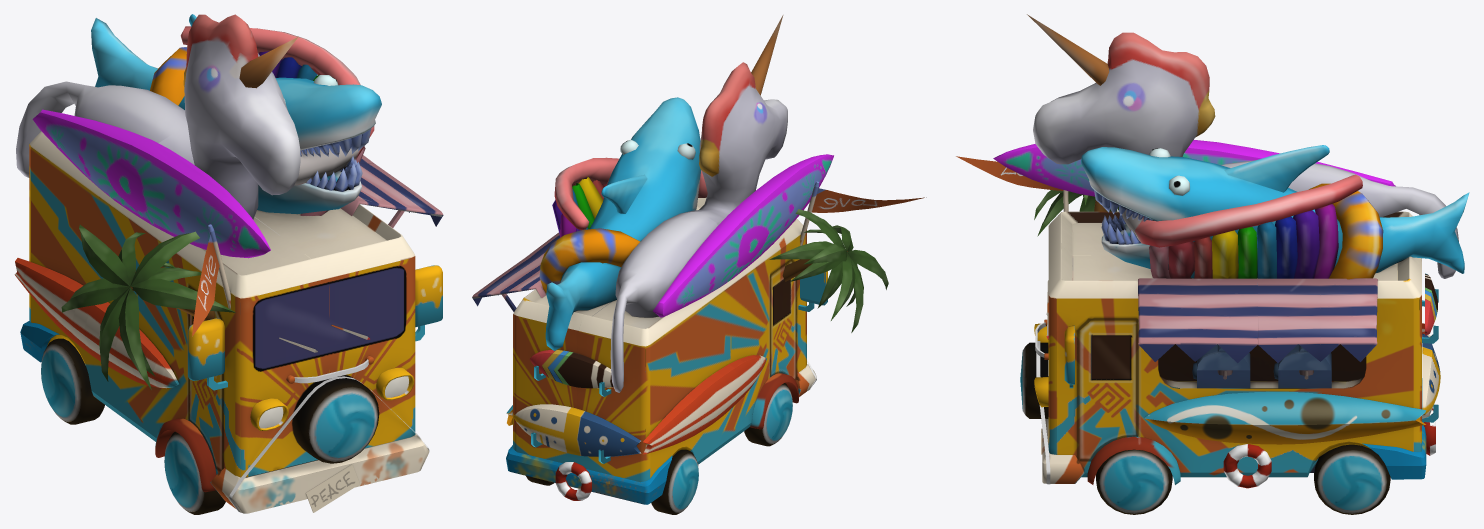
File: surf.dae
The picture shows the model from 3 angles, left to right: view 1: azimuth 30°, elevation 25°; view 2: azimuth 150°, elevation 25°; view 3: azimuth 270°, elevation 25°; orthographic projection. The views are drawn at different scales.
Visible parts, largest first — view 1: Surf_Theme_car, Wheel_front_Left002, Wheel_front_Left003; view 2: Surf_Theme_car, Wheel_front_Left002, Wheel_front_Left003; view 3: Surf_Theme_car, Wheel_front_Left001, Wheel_front_Left.
Boxes of the visible parts, <box> form: Surf_Theme_car: <box>14,14,443,513</box>; Wheel_front_Left002: <box>41,338,104,424</box>; Wheel_front_Left003: <box>164,431,225,514</box>; Surf_Theme_car: <box>472,15,926,504</box>; Wheel_front_Left002: <box>651,449,698,514</box>; Wheel_front_Left003: <box>744,383,792,446</box>; Surf_Theme_car: <box>956,14,1469,488</box>; Wheel_front_Left001: <box>1314,444,1390,514</box>; Wheel_front_Left: <box>1096,449,1172,514</box>.
Bounding box in the file's own units: 1.01 × 1.41 × 1.34.
2 materials, 2 textured.
